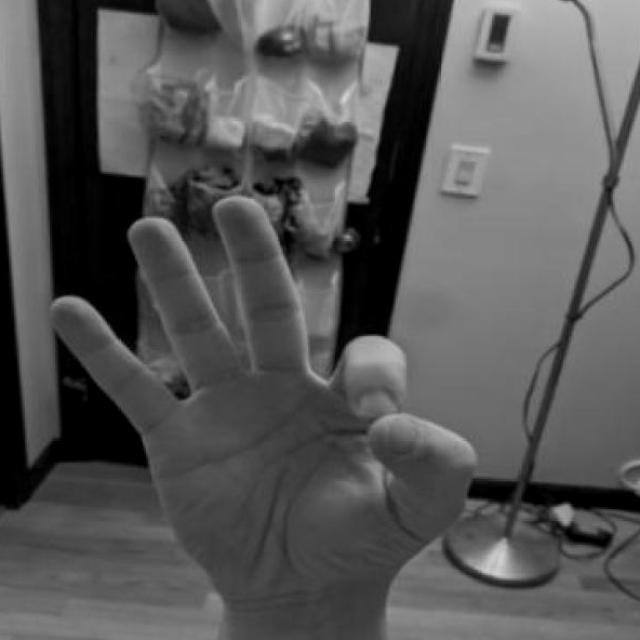F: (32, 175, 493, 640)
